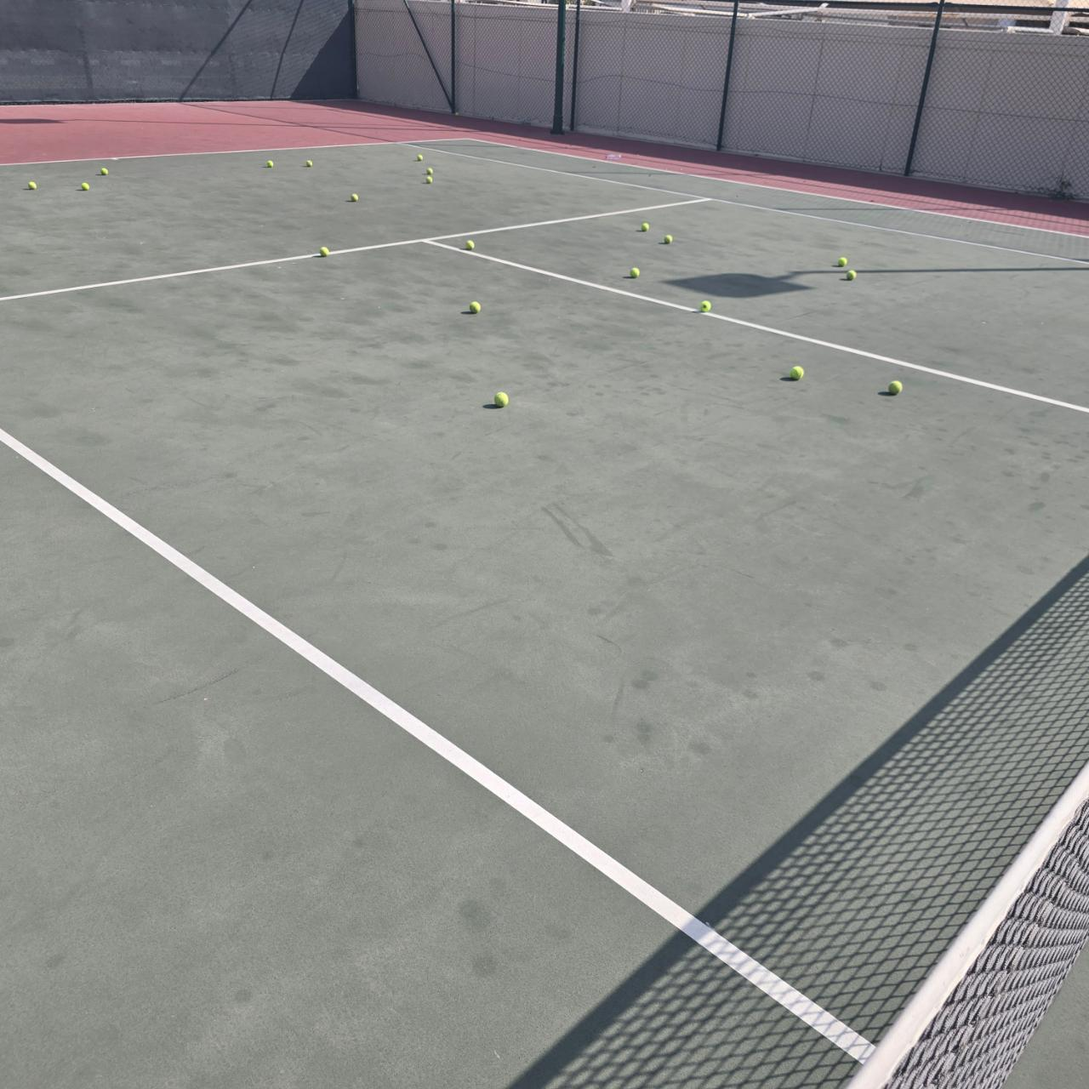tennis-ball: (494, 392, 508, 407), (887, 380, 902, 394), (790, 366, 804, 379), (469, 301, 480, 314), (699, 301, 711, 312), (846, 269, 857, 280), (837, 257, 848, 267), (630, 267, 640, 278), (319, 246, 329, 257), (465, 240, 475, 250), (664, 235, 673, 244), (28, 181, 37, 190), (81, 183, 90, 191), (351, 194, 359, 202), (426, 176, 433, 184), (100, 168, 108, 175), (642, 224, 649, 231), (426, 168, 433, 174), (417, 154, 423, 161), (306, 160, 312, 167), (267, 161, 273, 168)
